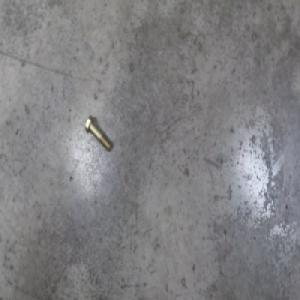Bolt: (83, 115, 110, 154)
